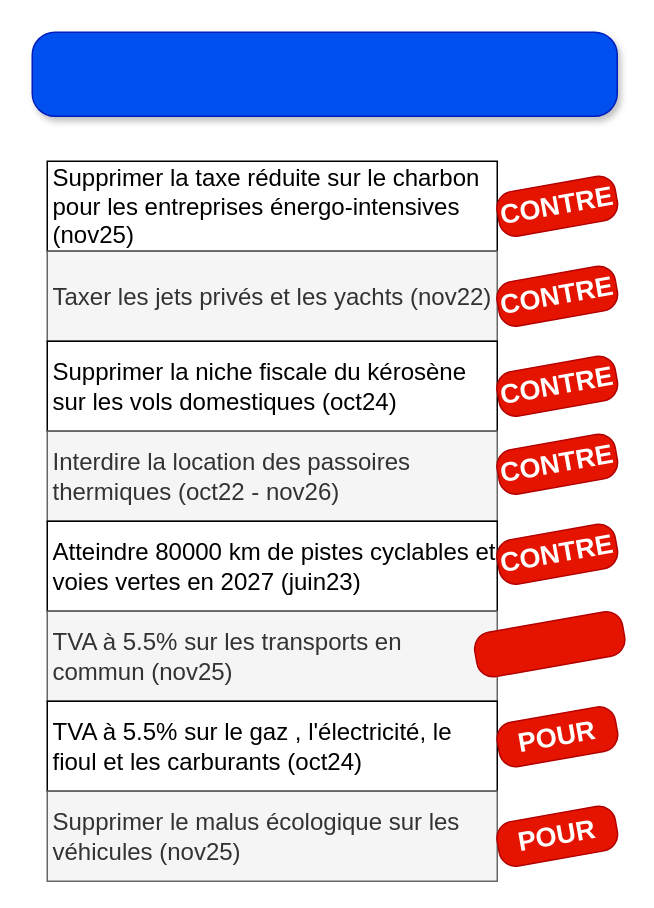
Some shapes in this 654 by 908 pixel diagram are drawn without their labels. The centre of each missing label's shape, as x and y in pixels:
"ABSTENTION" goes at point 549,644.
"ENERGIE - CLIMAT le vote de l'extreme droite qui agrave la situation" goes at point 325,76.
